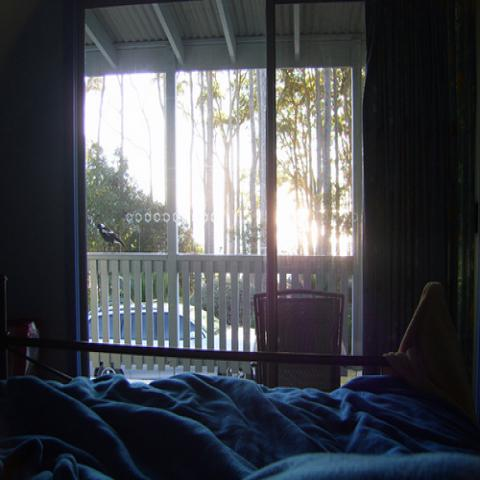car: (90, 305, 270, 380)
